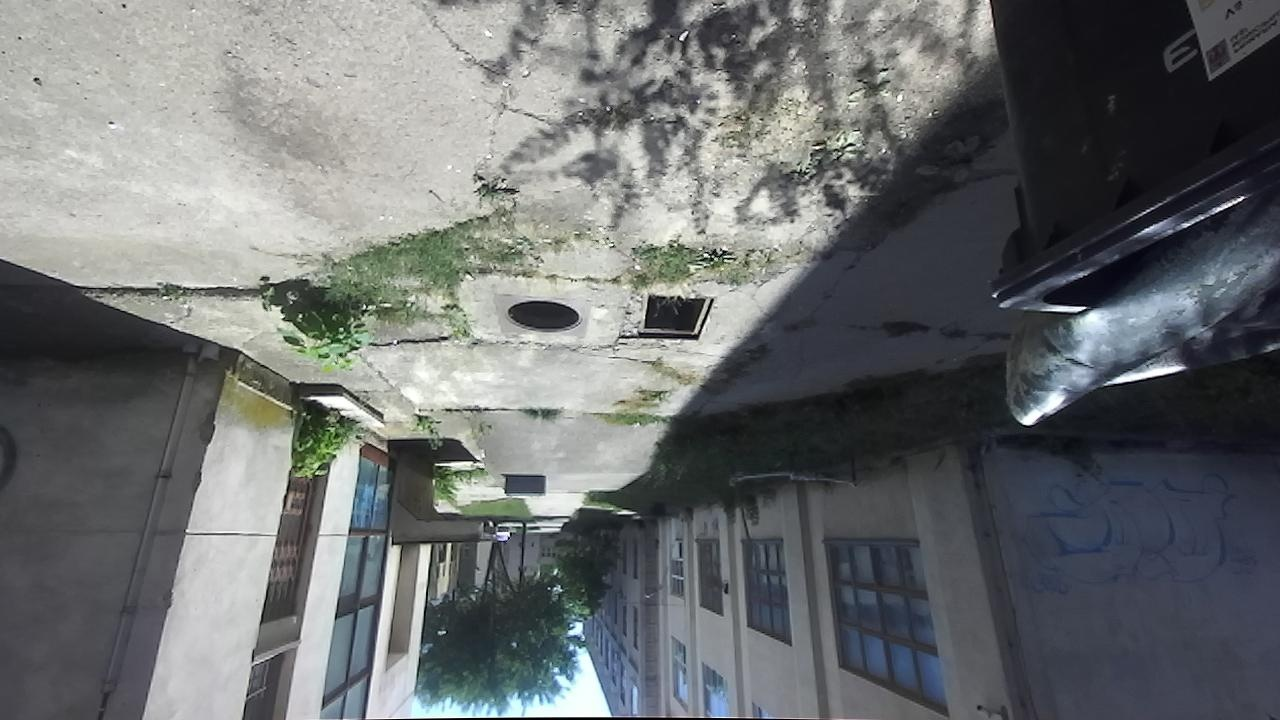drain: (634, 289, 719, 344), (503, 299, 588, 334)
